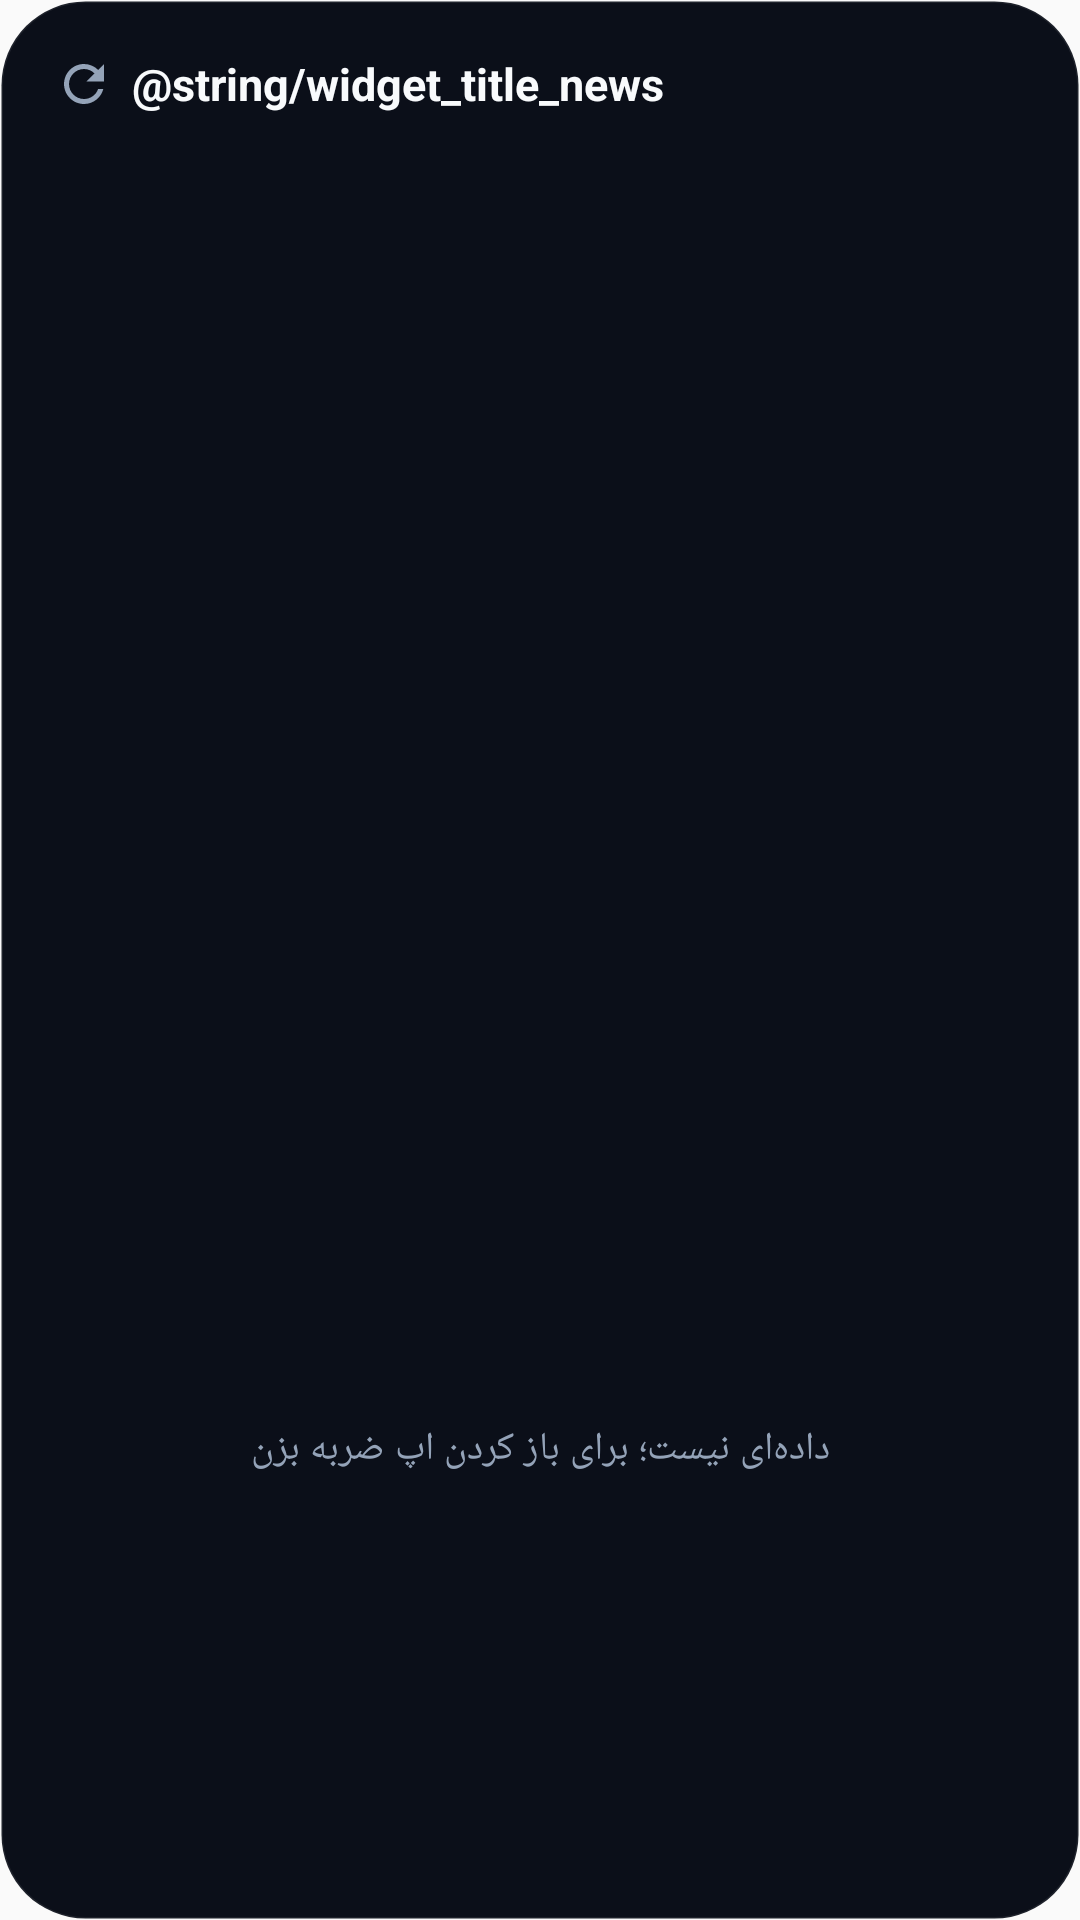

Named icons in this screenshot (1080×1920) and their centers, [x,y]:
widget refresh: [84,84]
